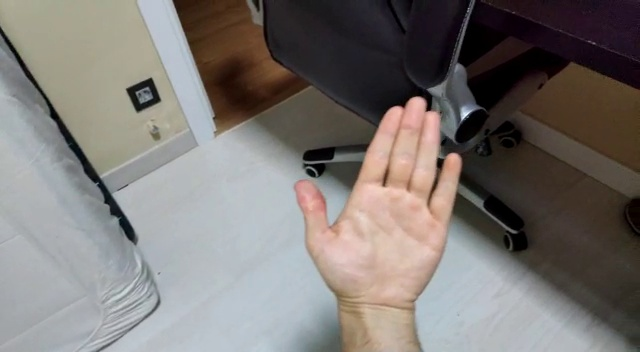Palm: (293, 93, 465, 323)
